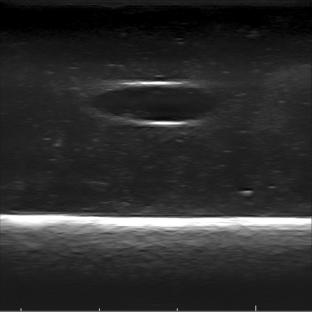vessel: (93, 80, 217, 128)
